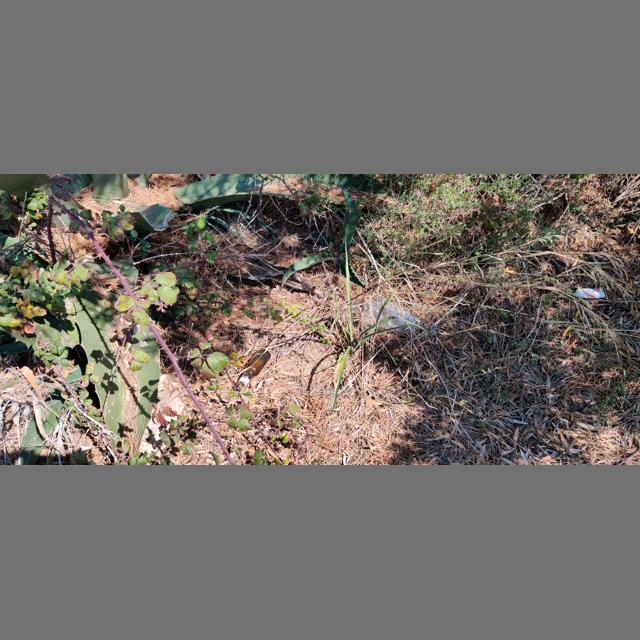litter: (361, 297, 420, 334), (233, 349, 271, 392), (574, 287, 605, 299)
